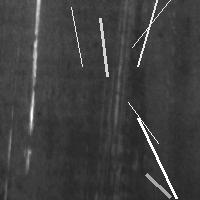scratches: (133, 113, 181, 200), (23, 1, 41, 170), (127, 0, 185, 52), (133, 0, 166, 71), (123, 97, 163, 148), (109, 30, 129, 129), (66, 2, 87, 71), (95, 13, 112, 81), (141, 169, 175, 200)
